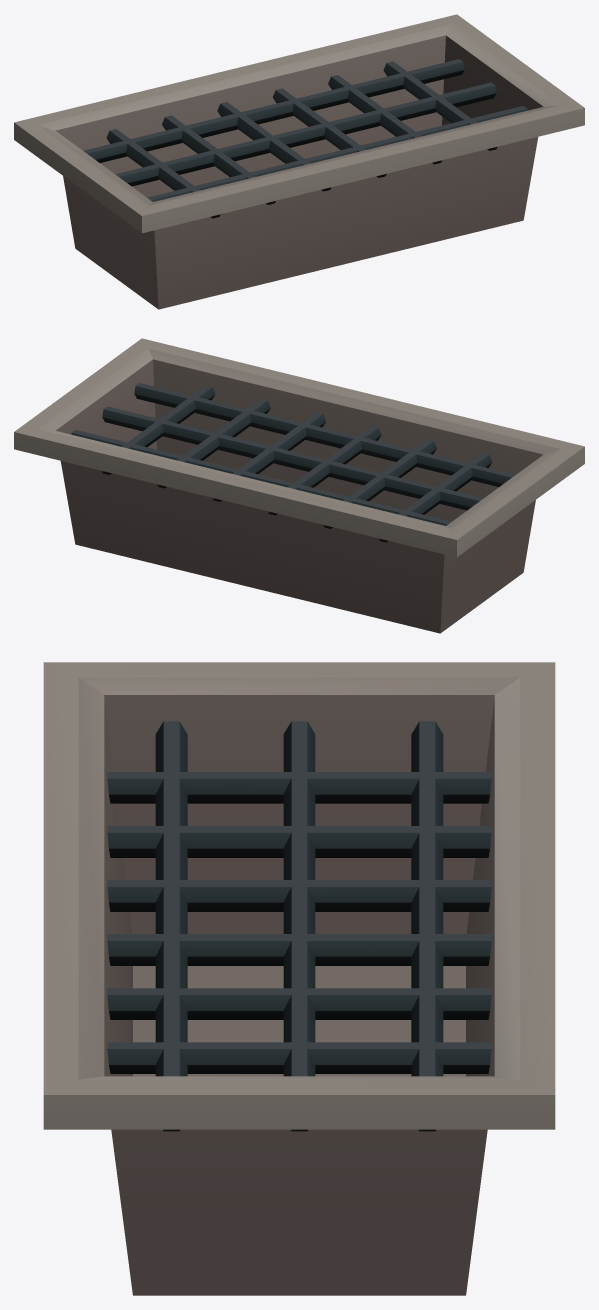
Rendered from floor_grate.fbx.
3 renders of one model, top to bottom at view 1: azimuth 30°, elevation 25°; view 2: azimuth 150°, elevation 25°; view 3: azimuth 270°, elevation 25°, orthographic. The views are drawn at different scales.
Parts seen in each view (by area): view 1: floor_tile_grate; view 2: floor_tile_grate; view 3: floor_tile_grate.
Boxes of the visible parts, <box> form: floor_tile_grate: <box>14,14,584,309</box>; floor_tile_grate: <box>14,338,584,633</box>; floor_tile_grate: <box>43,662,555,1295</box>.
Size of the model in its own units: 400 by 103 by 200.
Materials: 1 (1 with a texture image).
